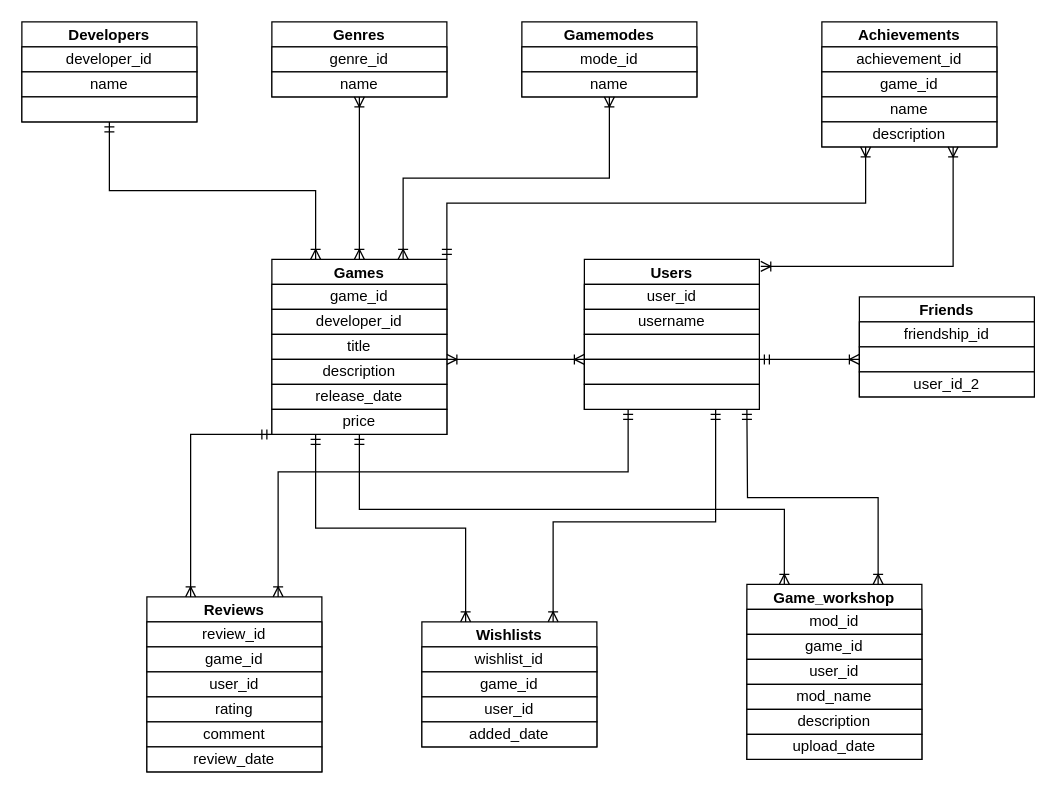
The diagram is 1056 pixels wide and 794 high, and some of its shapes have lost their labels. The shapes that lost their labels are listed below. From the top down, each one's centre as x and y in pixels, then its label:
At point (109, 109): "website".
At point (671, 346): "email".
At point (946, 359): "user_id_1".
At point (671, 371): "password".
At point (671, 396): "wallet_balance".
